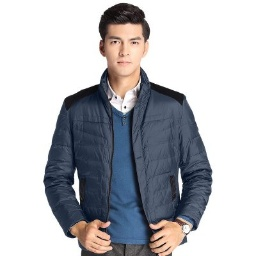face: (99, 4, 152, 77)
